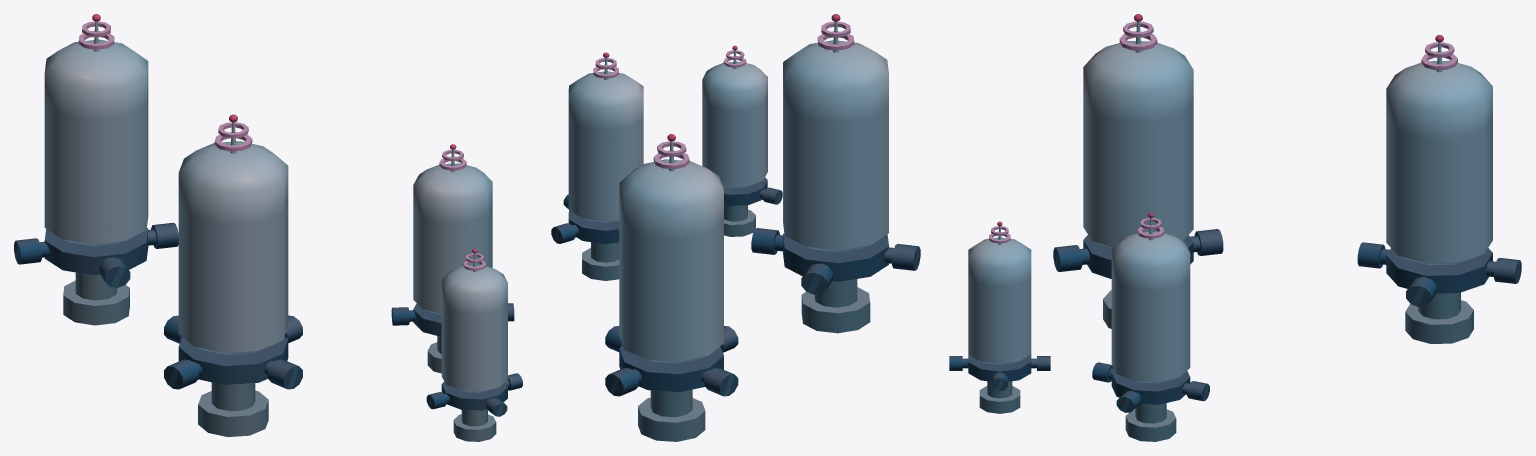
The model's file is Tech_04.fbx.
3 renders of one model, left to right at view 1: azimuth 30°, elevation 25°; view 2: azimuth 150°, elevation 25°; view 3: azimuth 270°, elevation 25°, orthographic.
Visible parts, largest first — view 1: Tech_04_good; view 2: Tech_04_good; view 3: Tech_04_good.
Part boxes in pixels (<box>): Tech_04_good: <box>14,14,522,441</box>; Tech_04_good: <box>551,14,920,441</box>; Tech_04_good: <box>949,14,1521,441</box>.
Size of the model in its own units: 45.45 by 38.38 by 64.52.
